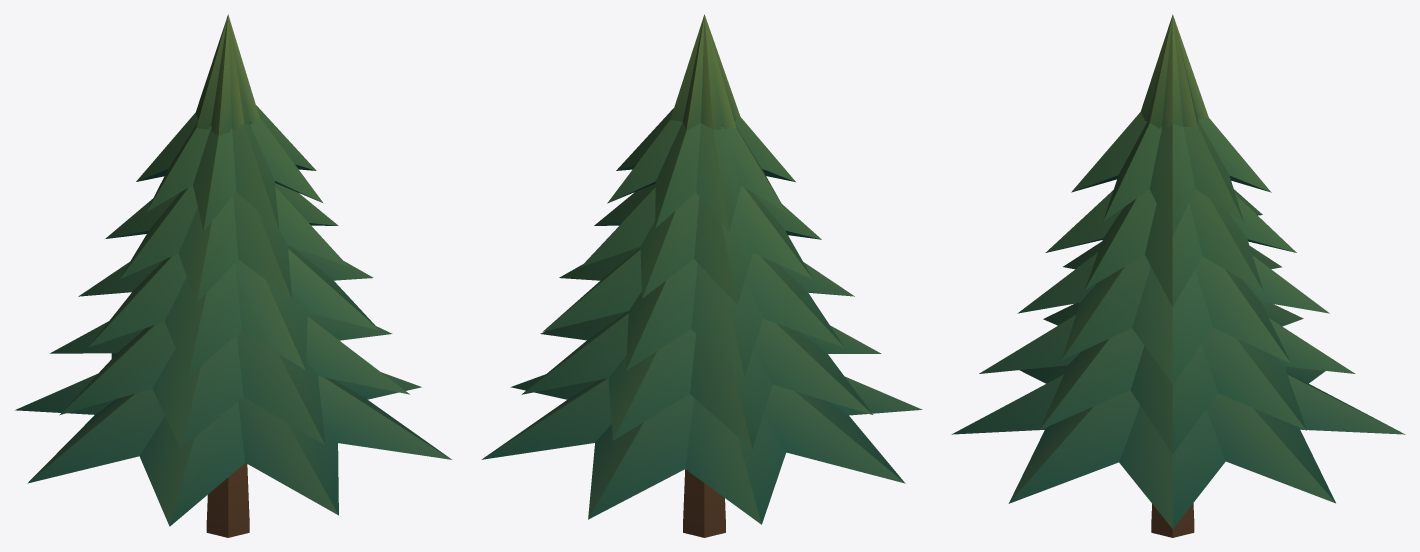
The picture shows the model from 3 angles, left to right: view 1: azimuth 30°, elevation 25°; view 2: azimuth 150°, elevation 25°; view 3: azimuth 270°, elevation 25°; orthographic projection.
Visible parts, largest first — view 1: prop_pine_bushy; view 2: prop_pine_bushy; view 3: prop_pine_bushy.
Part boxes in pixels (x1,y1,x2,y2): prop_pine_bushy: (15, 14, 451, 537); prop_pine_bushy: (481, 14, 922, 537); prop_pine_bushy: (951, 14, 1405, 537).
Bounding box in the file's own units: 4.43 × 5.5 × 4.41.
